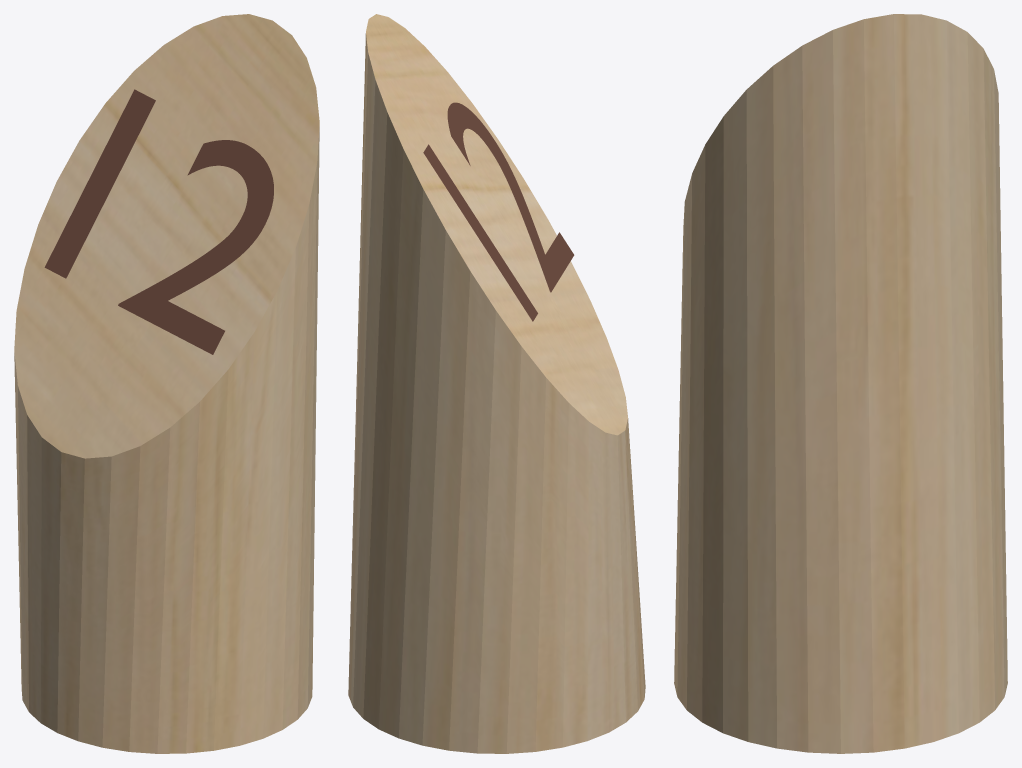
Rendered from pin12.glb.
3 views of the same model, side by side, from view 1: azimuth 30°, elevation 25°; view 2: azimuth 150°, elevation 25°; view 3: azimuth 270°, elevation 25° (orthographic). The views are drawn at different scales.
Parts seen in each view (by area): view 1: 円柱.005; view 2: 円柱.005; view 3: 円柱.005.
Part boxes in pixels (box(x1,y1,x2,y2)): 円柱.005: box(14, 14, 319, 753); 円柱.005: box(348, 14, 645, 753); 円柱.005: box(674, 14, 1007, 753).
Bounding box in the file's own units: 1.16 × 2.79 × 1.16.
Materials: 2 (1 with a texture image).
